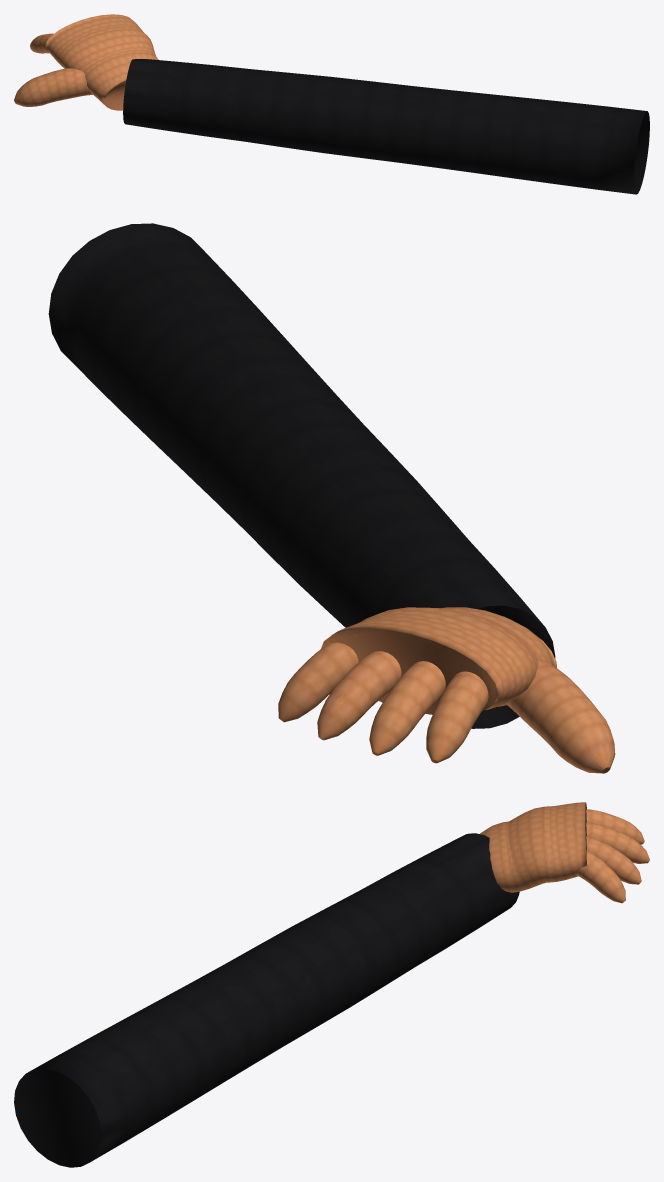
File: crocheted-hand.glb
3 renders of one model, top to bottom at view 1: azimuth 30°, elevation 25°; view 2: azimuth 150°, elevation 25°; view 3: azimuth 270°, elevation 25°, orthographic. The views are drawn at different scales.
Visible parts, largest first — view 1: CrochetedHand; view 2: CrochetedHand; view 3: CrochetedHand.
Boxes of the visible parts, box(x1,y1,x2,y2) form: CrochetedHand: box(14, 14, 649, 194); CrochetedHand: box(48, 223, 615, 773); CrochetedHand: box(14, 802, 649, 1167).
Bounding box in the file's own units: 0.3455 × 0.0767 × 0.325.
Materials: 1 (1 with a texture image).
